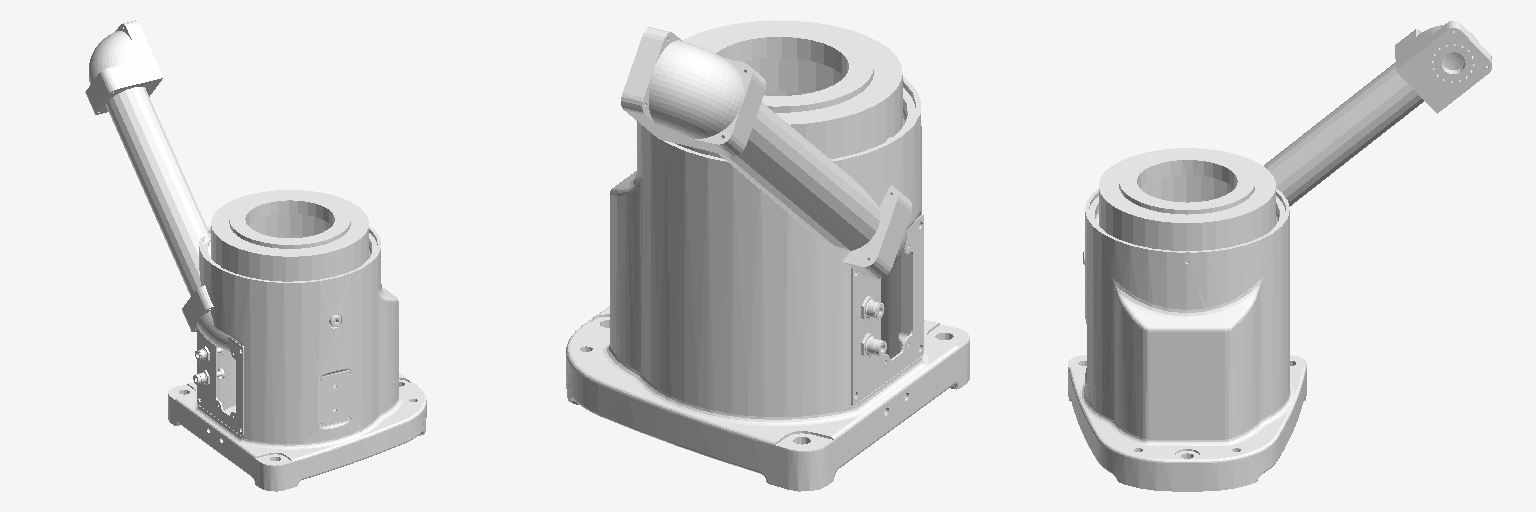
URDF robot description (Robot):
<?xml version="1.0" encoding="utf-8"?>
<!-- This URDF was automatically created by SolidWorks to URDF Exporter! Originally created by [author] ([email redacted]) 
     Commit Version: 1.6.0-1-g15f4949  Build Version: 1.6.7594.29634
     For more information, please see http://wiki.ros.org/sw_urdf_exporter -->
<robot
  name="Robot">
  <link
    name="base_link">
    <inertial>
      <origin
        xyz="1.7188E-06 0.00038112 0.042746"
        rpy="0 0 0" />
      <mass
        value="0.4964" />
      <inertia
        ixx="0.0005605"
        ixy="-6.2277E-08"
        ixz="-8.4793E-08"
        iyy="0.00056863"
        iyz="6.7147E-06"
        izz="0.00084808" />
    </inertial>
    <visual>
      <origin
        xyz="0 0 0"
        rpy="0 0 0" />
      <geometry>
        <mesh
          filename="./meshes/base_link.STL" />
      </geometry>
      <material
        name="">
        <color
          rgba="1 1 1 1" />
      </material>
    </visual>
    <collision>
      <origin
        xyz="0 0 0"
        rpy="0 0 0" />
      <geometry>
        <mesh
          filename="./meshes/base_link.STL" />
      </geometry>
    </collision>
  </link>
  <link
    name="first_Link">
    <inertial>
      <origin
        xyz="0.001485 1.6346E-05 0.041156"
        rpy="0 0 0" />
      <mass
        value="0.2866" />
      <inertia
        ixx="0.0002524"
        ixy="-1.5091E-07"
        ixz="5.1051E-05"
        iyy="0.00027843"
        iyz="5.2341E-07"
        izz="0.00032172" />
    </inertial>
    <visual>
      <origin
        xyz="0 0 0"
        rpy="0 0 0" />
      <geometry>
        <mesh
          filename="./meshes/first_Link.STL" />
      </geometry>
      <material
        name="">
        <color
          rgba="1 1 1 1" />
      </material>
    </visual>
    <collision>
      <origin
        xyz="0 0 0"
        rpy="0 0 0" />
      <geometry>
        <mesh
          filename="./meshes/first_Link.STL" />
      </geometry>
    </collision>
  </link>
  <joint
    name="first_Joint"
    type="revolute">
    <origin
      xyz="0 0 0.1081"
      rpy="0 0 0" />
    <parent
      link="base_link" />
    <child
      link="first_Link" />
    <axis
      xyz="0 0 1" />
    <limit effort="1000" velocity="10"/>
  </joint>
  <link
    name="second_Link">
    <inertial>
      <origin
        xyz="0.13642 0.11743 -0.073962"
        rpy="0 0 0" />
      <mass
        value="0.38699" />
      <inertia
        ixx="0.00058886"
        ixy="-0.00031716"
        ixz="-2.3479E-12"
        iyy="0.00068428"
        iyz="6.1764E-12"
        izz="0.00096504" />
    </inertial>
    <visual>
      <origin
        xyz="0 0 0"
        rpy="0 0 0" />
      <geometry>
        <mesh
          filename="./meshes/second_Link.STL" />
      </geometry>
      <material
        name="">
        <color
          rgba="1 1 1 1" />
      </material>
    </visual>
    <collision>
      <origin
        xyz="0 0 0"
        rpy="0 0 0" />
      <geometry>
        <mesh
          filename="./meshes/second_Link.STL" />
      </geometry>
    </collision>
  </link>
  <joint
    name="second_Joint"
    type="revolute">
    <origin
      xyz="0 0 0.045"
      rpy="1.5708 0 1.5798" />
    <parent
      link="first_Link" />
    <child
      link="second_Link" />
    <axis
      xyz="0 0 1" />
    <limit effort="1000" velocity="10"/>
  </joint>
  <link
    name="third_Link">
    <inertial>
      <origin
        xyz="0.040143 -0.010289 -0.0011322"
        rpy="0 0 0" />
      <mass
        value="0.41859" />
      <inertia
        ixx="0.00042493"
        ixy="0.00016263"
        ixz="-2.0388E-06"
        iyy="0.0010198"
        iyz="4.6529E-07"
        izz="0.0010942" />
    </inertial>
    <visual>
      <origin
        xyz="0 0 0"
        rpy="0 0 0" />
      <geometry>
        <mesh
          filename="./meshes/third_Link.STL" />
      </geometry>
      <material
        name="">
        <color
          rgba="1 1 1 1" />
      </material>
    </visual>
    <collision>
      <origin
        xyz="0 0 0"
        rpy="0 0 0" />
      <geometry>
        <mesh
          filename="./meshes/third_Link.STL" />
      </geometry>
    </collision>
  </link>
  <joint
    name="third_Joint"
    type="revolute">
    <origin
      xyz="0.27284 0.23486 0.005"
      rpy="0 0 0" />
    <parent
      link="second_Link" />
    <child
      link="third_Link" />
    <axis
      xyz="0 0 1" />
    <limit effort="1000" velocity="10"/>
  </joint>
</robot>

--- Render facts (derived) ---
3 views of the same robot in one strip: view 1: azimuth 30°, elevation 25°; view 2: azimuth 150°, elevation 25°; view 3: azimuth 270°, elevation 25° (orthographic).
Robot: Robot — 4 links, 3 joints (3 revolute); root link base_link; default pose: every joint at zero.
Visible links, largest first — view 1: base_link, second_Link; view 2: base_link, second_Link; view 3: base_link, second_Link.
Link boxes in pixels (box(x1,y1,x2,y2)): base_link: box(168, 190, 426, 491); second_Link: box(85, 20, 229, 351); base_link: box(566, 20, 969, 491); second_Link: box(621, 27, 911, 278); base_link: box(1068, 148, 1306, 491); second_Link: box(1264, 21, 1491, 206).
Bounding box of the posed robot: 0.2755 × 0.4349 × 0.428 m (x, y, z).
Meshes: 4 distinct files referenced, 2 mesh visuals loaded (2 binary STL); not drawn: 2 (reference not matched to a file when rendering).